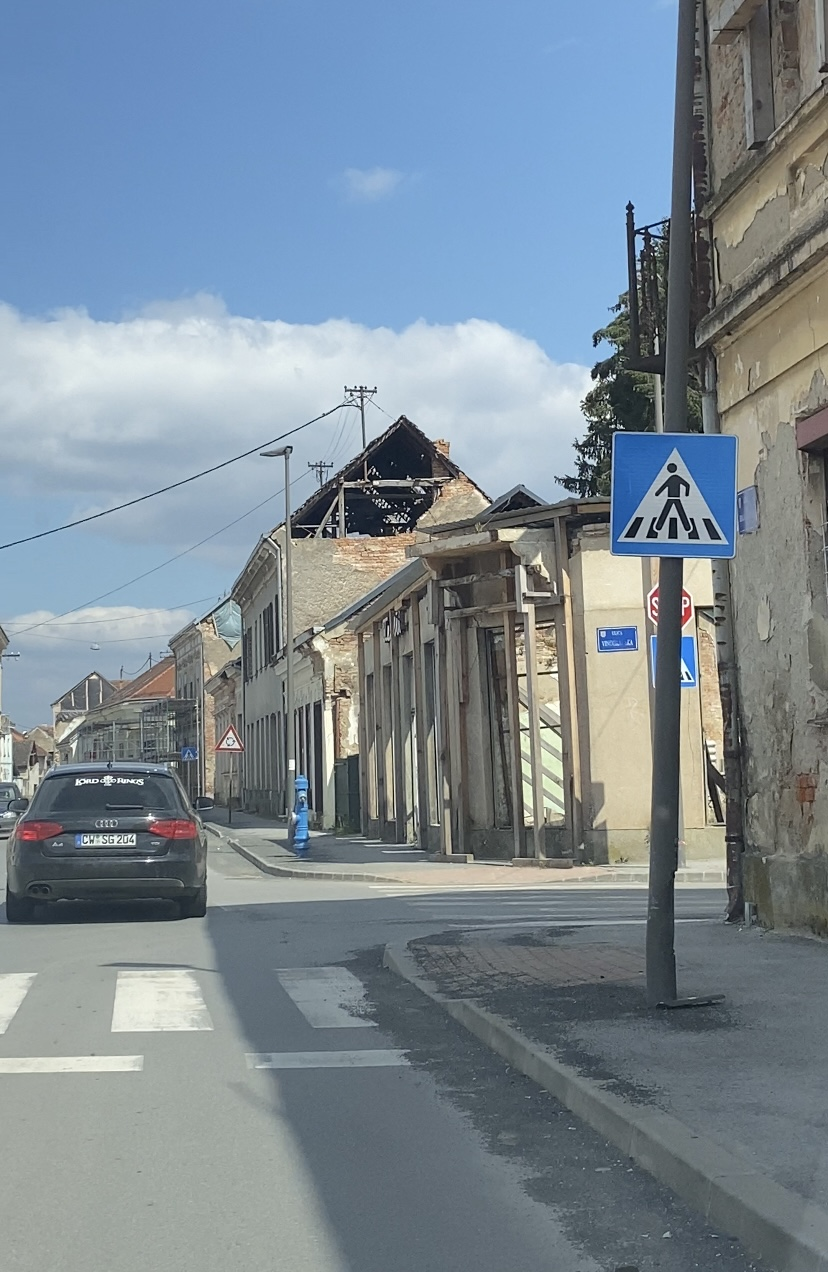Pješački prijelaz: (609, 430, 738, 560)
